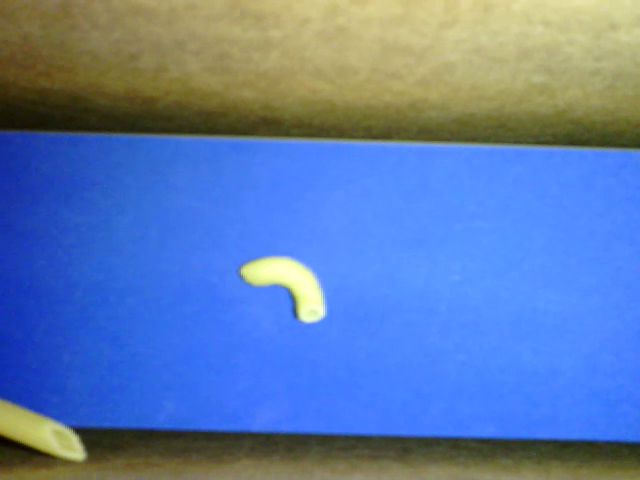elbow: (239, 255, 326, 323)
penne: (1, 400, 87, 460)
